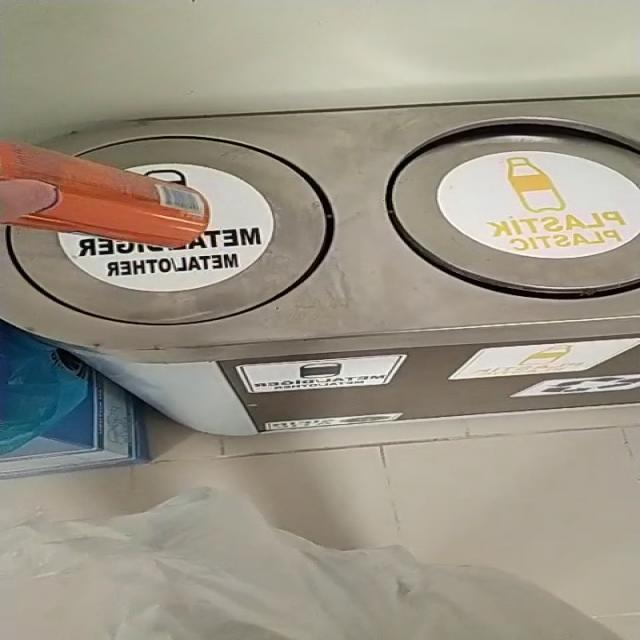Other: (0, 79, 356, 182)
